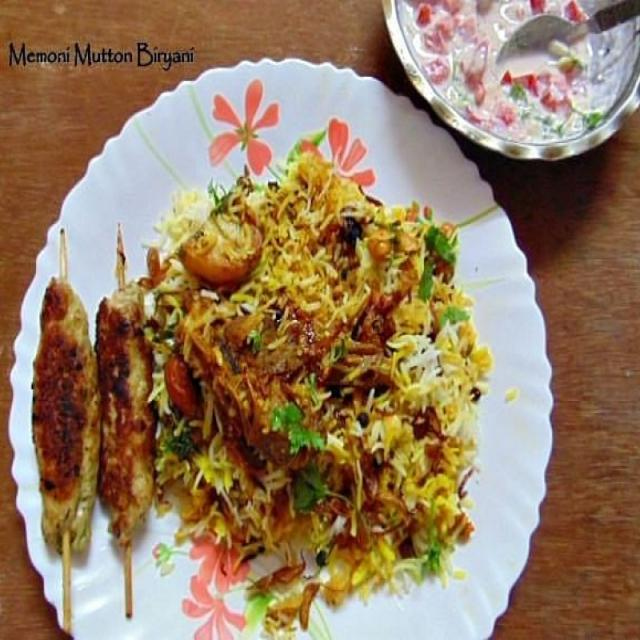Biryani: (150, 140, 480, 639)
